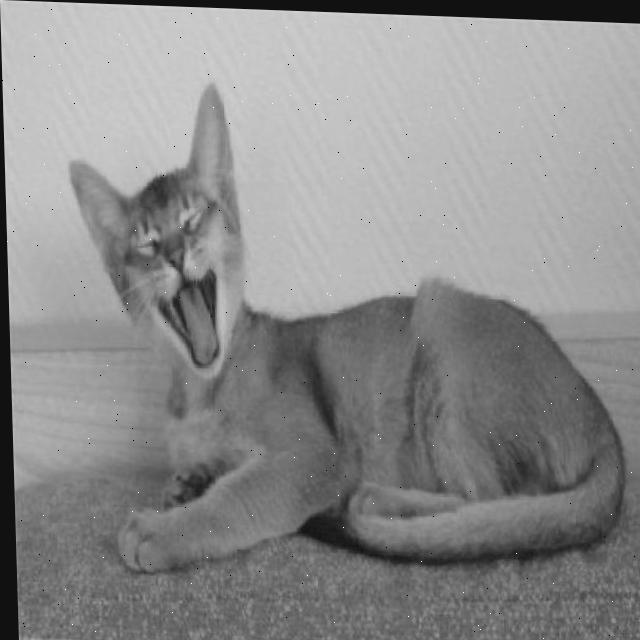Cat: (63, 76, 628, 591)
